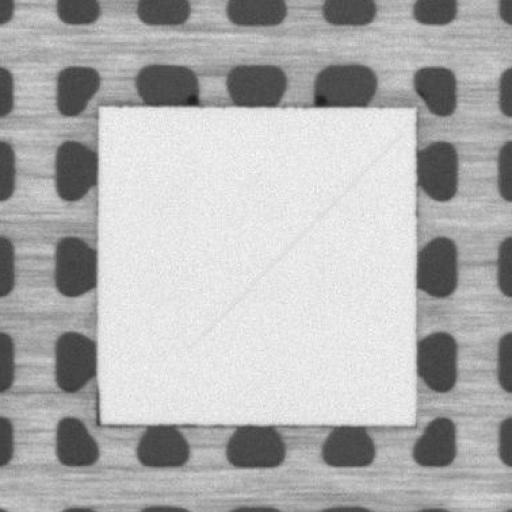DIE_CRACK: (188, 133, 400, 348)
